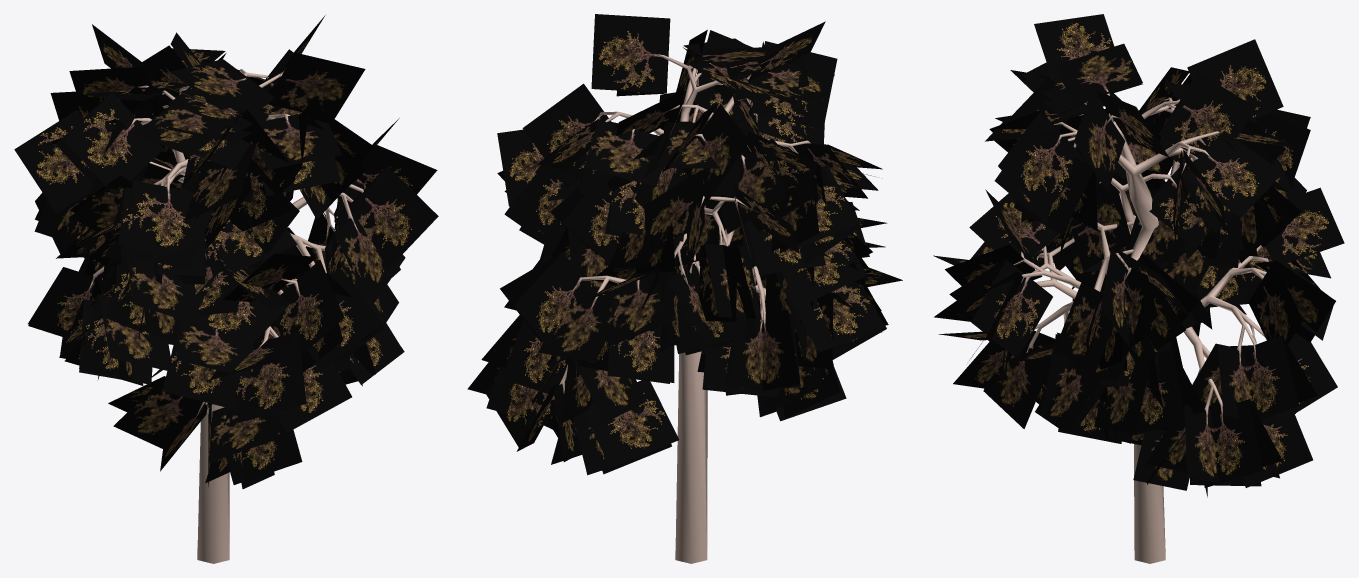
File: tree.glb
3 views of the same model, side by side, from view 1: azimuth 30°, elevation 25°; view 2: azimuth 150°, elevation 25°; view 3: azimuth 270°, elevation 25° (orthographic). The views are drawn at different scales.
Size of the model in its own units: 4.38 by 5.84 by 4.38.
Materials: 2 (1 with a texture image).
